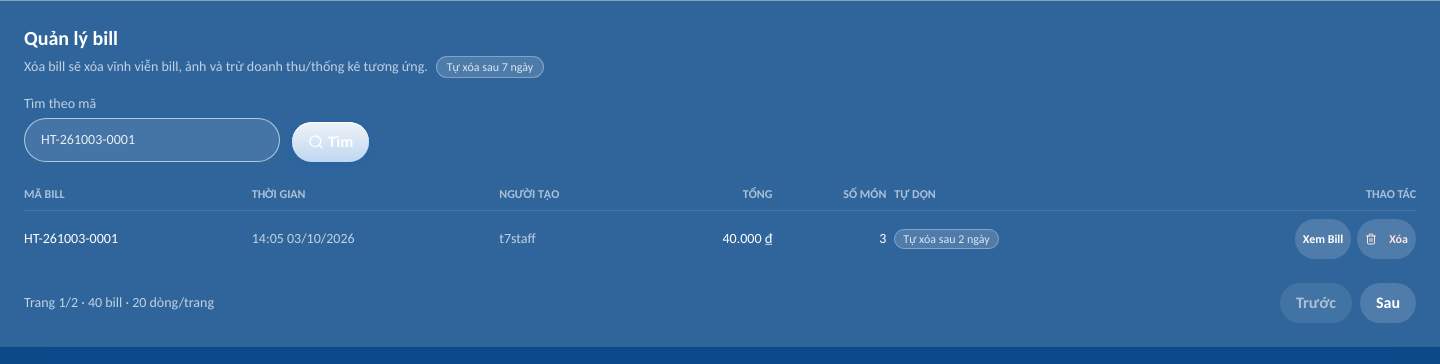
Test: P7-T1 — phân trang › nhiều trang → Trước bị khóa ở trang đầu, bấm Sau sang trang 2
Expected: the text "HT-261003-0001" is shown, [24,210,252,267]
Expected: the text "Trang 1/2 · 40 bill · 20 dòng/trang" is shown, [24,293,214,313]
Click the button "Sau".
click(1388, 303)  # box [1360,283,1416,323]
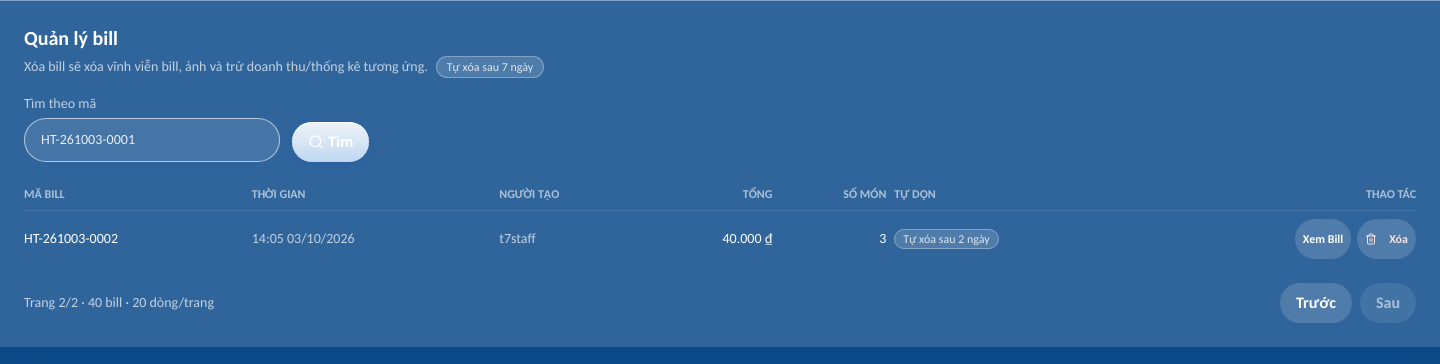
Result: the text "HT-261003-0002" is shown at [24,210,252,267]
Result: the text "Trang 2/2 · 40 bill · 20 dòng/trang" is shown at [24,293,214,313]
Result: the button "Trước" is enabled at [1280,283,1352,323]
